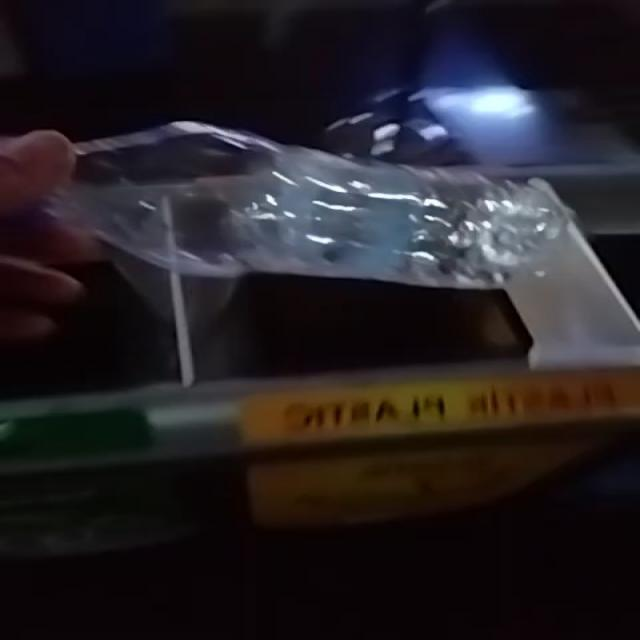Plastic: (51, 122, 571, 288)
